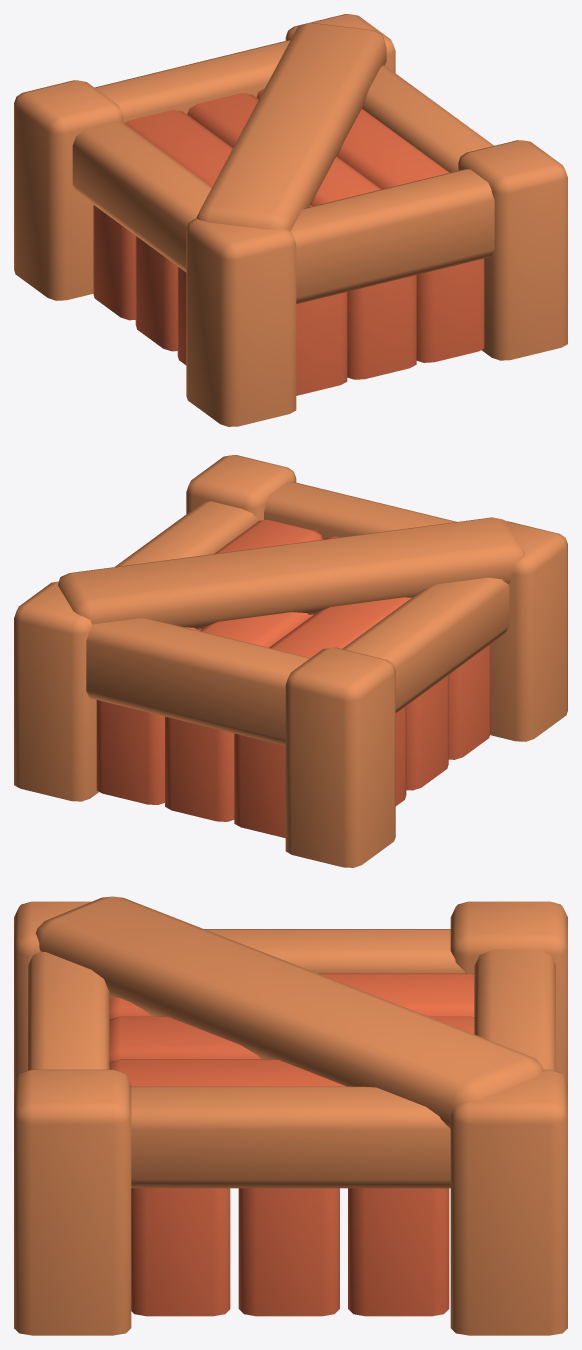
The model's file is SM_Obs01.fbx.
3 renders of one model, top to bottom at view 1: azimuth 30°, elevation 25°; view 2: azimuth 150°, elevation 25°; view 3: azimuth 270°, elevation 25°, orthographic. The views are drawn at different scales.
Parts seen in each view (by area): view 1: SM_Obs01; view 2: SM_Obs01; view 3: SM_Obs01.
Boxes of the visible parts, bbox=[...] form: SM_Obs01: bbox=[14, 14, 567, 426]; SM_Obs01: bbox=[14, 455, 567, 867]; SM_Obs01: bbox=[14, 896, 567, 1335].
Size of the model in its own units: 110 by 57.22 by 120.
